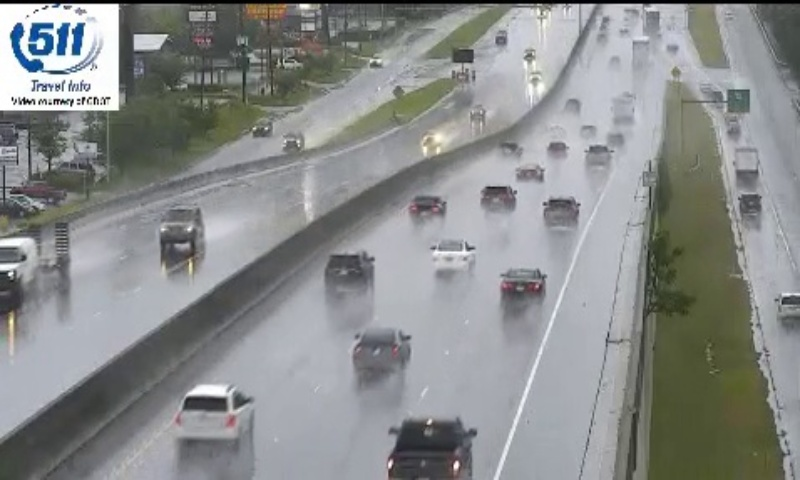car: (388, 419, 471, 480), (175, 384, 256, 443), (353, 327, 411, 371), (324, 251, 373, 289), (430, 240, 475, 272), (500, 268, 545, 299), (408, 194, 446, 224), (542, 196, 579, 226), (480, 184, 515, 211)
